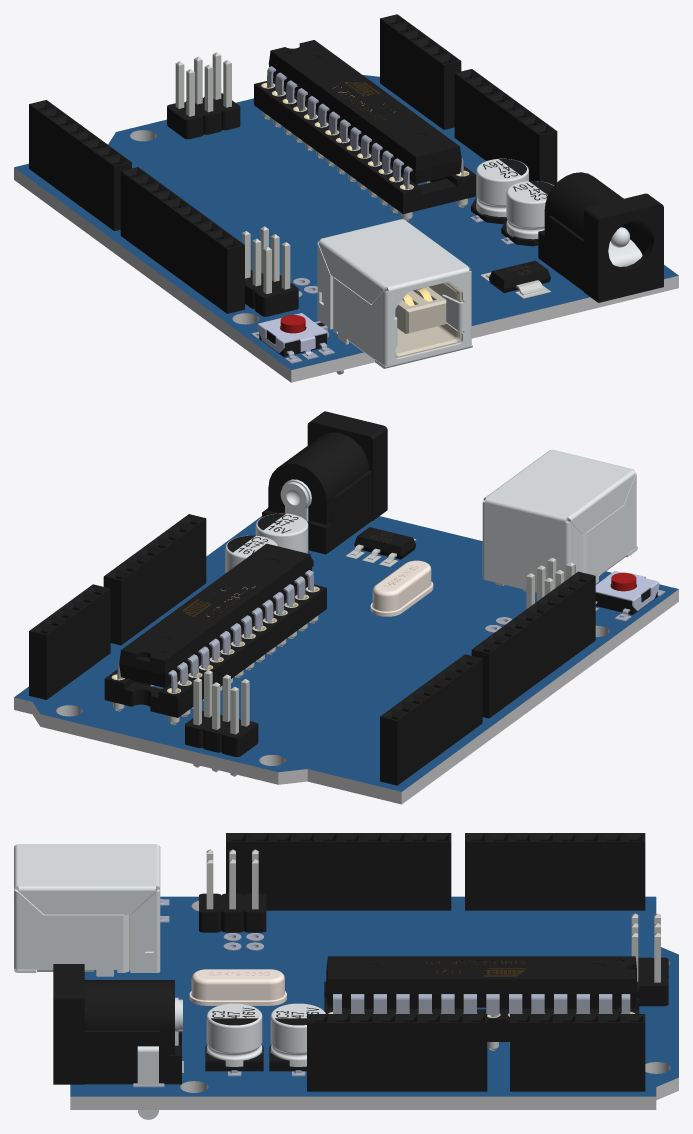
The model's file is arduino_uno_r3.dae.
The picture shows the model from 3 angles, top to bottom: view 1: azimuth 30°, elevation 25°; view 2: azimuth 150°, elevation 25°; view 3: azimuth 270°, elevation 25°; orthographic projection. The views are drawn at different scales.
Parts seen in each view (by area): view 1: node_08a75a05_a96c_4fd5_a6c1_b424f0da8912_mesh0, node_9c4c66ab_bbc2_40d5_845e_79697b25e445_mesh0, node_634c3b8a_b0b3_4091_87ca_78c74b2db551_mesh0, node_ba47d8a2_30cf_4d6e_8862_08562c5112bb_mesh0, node_c13a6dfd_aa3d_45bf_ba21_f2a087abe20b_mesh0, node_0f3d0743_f009_478b_b82f_0360a9ceb4cc_mesh0, node_3987eb4f_fd91_4694_b7e3_5a3b5b060452_mesh0, node_5773f929_7156_4d71_8e1e_7037bedc51e4_mesh0, node_18f314d8_c298_44a9_a5ce_491d972a357c_mesh0, node_f5e54f7d_fd4e_4354_8d86_fb1abe9cde00_mesh0, node_23c1df66_c171_4df7_a5f3_1c763bb3457c_mesh0, node_b89d75c7_12e9_4936_8e99_679619540a01_mesh0 (+9 smaller); view 2: node_08a75a05_a96c_4fd5_a6c1_b424f0da8912_mesh0, node_9c4c66ab_bbc2_40d5_845e_79697b25e445_mesh0, node_634c3b8a_b0b3_4091_87ca_78c74b2db551_mesh0, node_ba47d8a2_30cf_4d6e_8862_08562c5112bb_mesh0, node_c13a6dfd_aa3d_45bf_ba21_f2a087abe20b_mesh0, node_0f3d0743_f009_478b_b82f_0360a9ceb4cc_mesh0, node_3987eb4f_fd91_4694_b7e3_5a3b5b060452_mesh0, node_18f314d8_c298_44a9_a5ce_491d972a357c_mesh0, node_5773f929_7156_4d71_8e1e_7037bedc51e4_mesh0, node_be11ef87_7c4c_43f6_9c63_debcc984bf67_mesh0, node_fc99e250_e3c0_47e6_b4b8_b39e82d51cc2_mesh0, node_23ec1afa_8cd3_415c_888e_5b4a1e0cd5e2_mesh0 (+7 smaller); view 3: node_08a75a05_a96c_4fd5_a6c1_b424f0da8912_mesh0, node_9c4c66ab_bbc2_40d5_845e_79697b25e445_mesh0, node_c13a6dfd_aa3d_45bf_ba21_f2a087abe20b_mesh0, node_ba47d8a2_30cf_4d6e_8862_08562c5112bb_mesh0, node_0f3d0743_f009_478b_b82f_0360a9ceb4cc_mesh0, node_3987eb4f_fd91_4694_b7e3_5a3b5b060452_mesh0, node_634c3b8a_b0b3_4091_87ca_78c74b2db551_mesh0, node_18f314d8_c298_44a9_a5ce_491d972a357c_mesh0, node_be11ef87_7c4c_43f6_9c63_debcc984bf67_mesh0, node_23c1df66_c171_4df7_a5f3_1c763bb3457c_mesh0, node_b89d75c7_12e9_4936_8e99_679619540a01_mesh0, node_5773f929_7156_4d71_8e1e_7037bedc51e4_mesh0 (+5 smaller).
Part boxes in pixels (x1=…): node_08a75a05_a96c_4fd5_a6c1_b424f0da8912_mesh0: x1=14, y1=75, x2=678, y2=382; node_9c4c66ab_bbc2_40d5_845e_79697b25e445_mesh0: x1=317, y1=219, x2=472, y2=374; node_634c3b8a_b0b3_4091_87ca_78c74b2db551_mesh0: x1=538, y1=172, x2=663, y2=302; node_ba47d8a2_30cf_4d6e_8862_08562c5112bb_mesh0: x1=268, y1=40, x2=461, y2=184; node_c13a6dfd_aa3d_45bf_ba21_f2a087abe20b_mesh0: x1=120, y1=167, x2=244, y2=313; node_0f3d0743_f009_478b_b82f_0360a9ceb4cc_mesh0: x1=29, y1=100, x2=131, y2=230; node_3987eb4f_fd91_4694_b7e3_5a3b5b060452_mesh0: x1=454, y1=69, x2=557, y2=185; node_5773f929_7156_4d71_8e1e_7037bedc51e4_mesh0: x1=254, y1=80, x2=476, y2=214; node_18f314d8_c298_44a9_a5ce_491d972a357c_mesh0: x1=380, y1=14, x2=461, y2=129; node_f5e54f7d_fd4e_4354_8d86_fb1abe9cde00_mesh0: x1=385, y1=281, x2=462, y2=357; node_23c1df66_c171_4df7_a5f3_1c763bb3457c_mesh0: x1=506, y1=181, x2=553, y2=239; node_b89d75c7_12e9_4936_8e99_679619540a01_mesh0: x1=476, y1=158, x2=528, y2=216; node_08a75a05_a96c_4fd5_a6c1_b424f0da8912_mesh0: x1=14, y1=516, x2=678, y2=804; node_9c4c66ab_bbc2_40d5_845e_79697b25e445_mesh0: x1=482, y1=449, x2=637, y2=592; node_634c3b8a_b0b3_4091_87ca_78c74b2db551_mesh0: x1=262, y1=411, x2=387, y2=554; node_ba47d8a2_30cf_4d6e_8862_08562c5112bb_mesh0: x1=119, y1=543, x2=312, y2=687; node_c13a6dfd_aa3d_45bf_ba21_f2a087abe20b_mesh0: x1=471, y1=571, x2=595, y2=718; node_0f3d0743_f009_478b_b82f_0360a9ceb4cc_mesh0: x1=380, y1=654, x2=482, y2=785; node_3987eb4f_fd91_4694_b7e3_5a3b5b060452_mesh0: x1=103, y1=514, x2=206, y2=645; node_18f314d8_c298_44a9_a5ce_491d972a357c_mesh0: x1=29, y1=584, x2=110, y2=699; node_5773f929_7156_4d71_8e1e_7037bedc51e4_mesh0: x1=104, y1=583, x2=326, y2=717; node_be11ef87_7c4c_43f6_9c63_debcc984bf67_mesh0: x1=370, y1=560, x2=433, y2=616; node_fc99e250_e3c0_47e6_b4b8_b39e82d51cc2_mesh0: x1=221, y1=679, x2=258, y2=756; node_23ec1afa_8cd3_415c_888e_5b4a1e0cd5e2_mesh0: x1=345, y1=527, x2=416, y2=567; node_08a75a05_a96c_4fd5_a6c1_b424f0da8912_mesh0: x1=70, y1=896, x2=678, y2=1109; node_9c4c66ab_bbc2_40d5_845e_79697b25e445_mesh0: x1=14, y1=844, x2=160, y2=976; node_c13a6dfd_aa3d_45bf_ba21_f2a087abe20b_mesh0: x1=226, y1=833, x2=451, y2=910; node_ba47d8a2_30cf_4d6e_8862_08562c5112bb_mesh0: x1=326, y1=956, x2=636, y2=1017; node_0f3d0743_f009_478b_b82f_0360a9ceb4cc_mesh0: x1=465, y1=833, x2=645, y2=910; node_3987eb4f_fd91_4694_b7e3_5a3b5b060452_mesh0: x1=307, y1=1014, x2=487, y2=1091; node_634c3b8a_b0b3_4091_87ca_78c74b2db551_mesh0: x1=53, y1=964, x2=183, y2=1087; node_18f314d8_c298_44a9_a5ce_491d972a357c_mesh0: x1=510, y1=1014, x2=645, y2=1091; node_be11ef87_7c4c_43f6_9c63_debcc984bf67_mesh0: x1=189, y1=969, x2=286, y2=1005; node_23c1df66_c171_4df7_a5f3_1c763bb3457c_mesh0: x1=206, y1=1003, x2=262, y2=1066; node_b89d75c7_12e9_4936_8e99_679619540a01_mesh0: x1=270, y1=1003, x2=325, y2=1066; node_5773f929_7156_4d71_8e1e_7037bedc51e4_mesh0: x1=324, y1=981, x2=639, y2=1041.
Bounding box in the file's own units: 0.0533 × 0.0152 × 0.0749.
